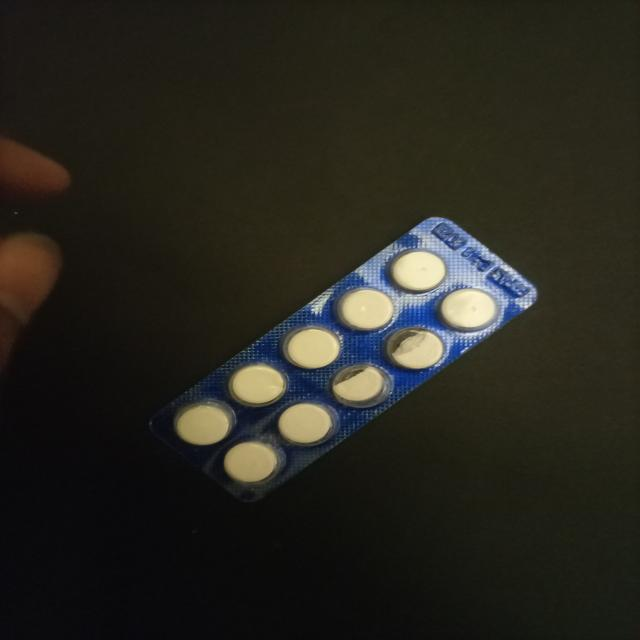defect: (384, 325, 448, 372), (327, 363, 389, 410)
